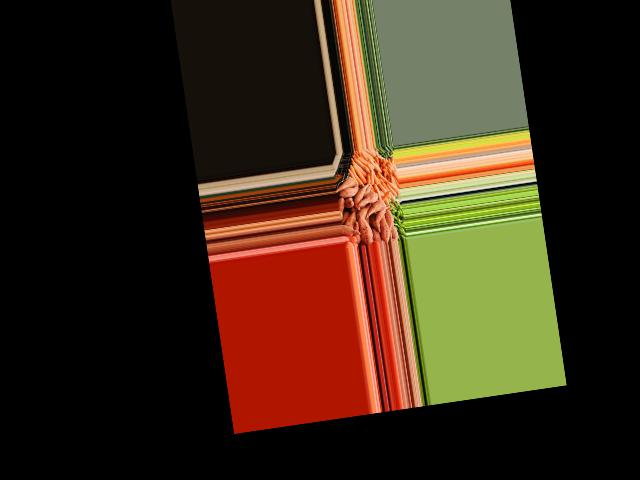carrot: (352, 163, 366, 186)
